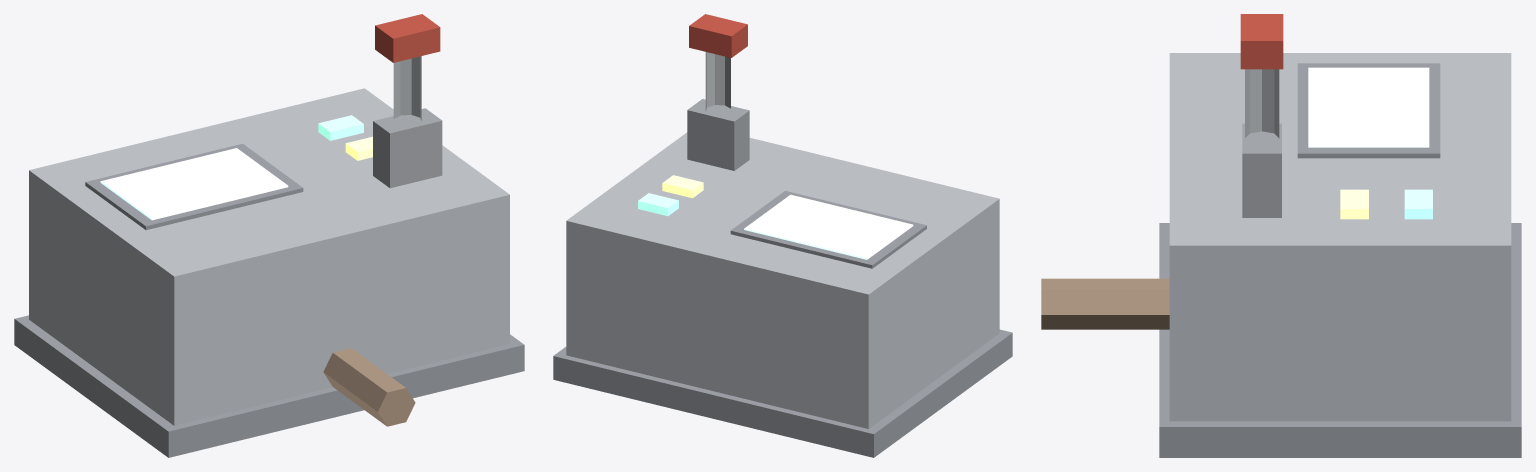
File: prop_control_box.glb
3 renders of one model, left to right at view 1: azimuth 30°, elevation 25°; view 2: azimuth 150°, elevation 25°; view 3: azimuth 270°, elevation 25°, orthographic. The views are drawn at different scales.
Parts seen in each view (by area): view 1: prop_control_box; view 2: prop_control_box; view 3: prop_control_box.
Boxes of the visible parts, x1=… form: prop_control_box: x1=14, y1=14, x2=524, y2=457; prop_control_box: x1=553, y1=14, x2=1012, y2=457; prop_control_box: x1=1041, y1=14, x2=1521, y2=457.
Size of the model in its own units: 0.3392 by 0.301 by 0.3372.
